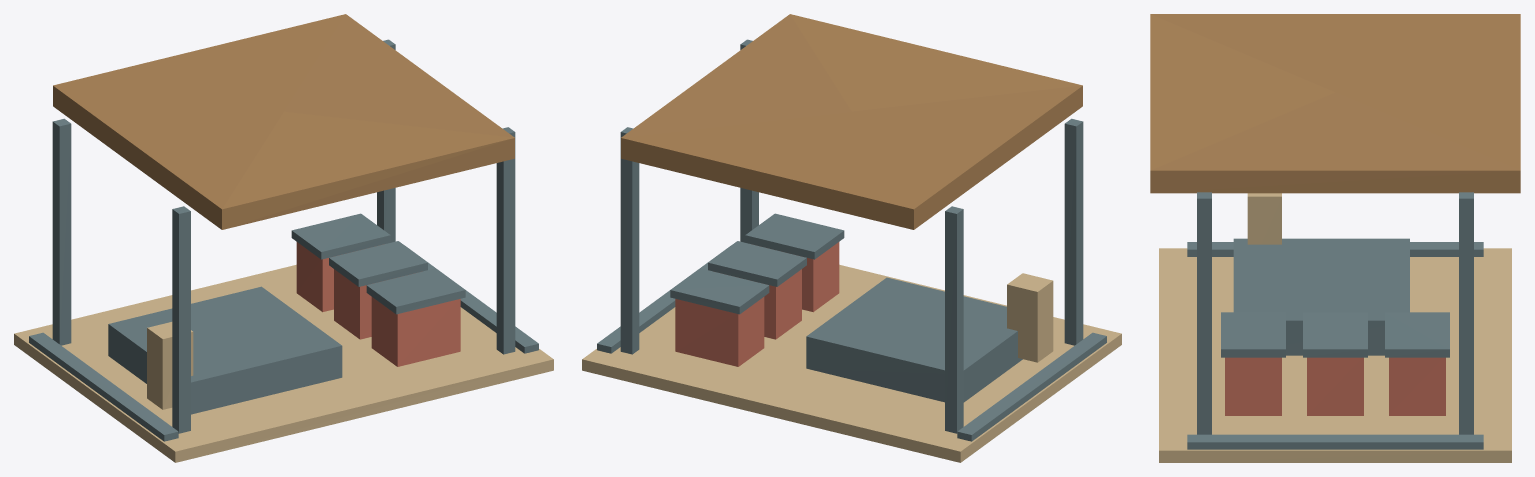
File: Produce-Collection-Point.glb
3 views of the same model, side by side, from view 1: azimuth 30°, elevation 25°; view 2: azimuth 150°, elevation 25°; view 3: azimuth 270°, elevation 25° (orthographic). The views are drawn at different scales.
Visible parts, largest first — view 1: produce-collection-point-static-collection-muted-teal, produce-collection-point-static-collection-warm-cream, produce-collection-point-static-collection-galvanized, produce-collection-point-static-collection-dark-metal, produce-collection-point-static-collection-weathered-timber; view 2: produce-collection-point-static-collection-muted-teal, produce-collection-point-static-collection-warm-cream, produce-collection-point-static-collection-galvanized, produce-collection-point-static-collection-dark-metal, produce-collection-point-static-collection-weathered-timber; view 3: produce-collection-point-static-collection-muted-teal, produce-collection-point-static-collection-warm-cream, produce-collection-point-static-collection-galvanized, produce-collection-point-static-collection-dark-metal, produce-collection-point-static-collection-weathered-timber.
Part boxes in pixels (x1=…): produce-collection-point-static-collection-muted-teal: x1=53, y1=14, x2=514, y2=229; produce-collection-point-static-collection-warm-cream: x1=14, y1=264, x2=553, y2=462; produce-collection-point-static-collection-galvanized: x1=108, y1=213, x2=465, y2=414; produce-collection-point-static-collection-dark-metal: x1=29, y1=39, x2=538, y2=441; produce-collection-point-static-collection-weathered-timber: x1=296, y1=242, x2=460, y2=366; produce-collection-point-static-collection-muted-teal: x1=621, y1=14, x2=1082, y2=229; produce-collection-point-static-collection-warm-cream: x1=582, y1=264, x2=1121, y2=462; produce-collection-point-static-collection-galvanized: x1=670, y1=213, x2=1022, y2=402; produce-collection-point-static-collection-dark-metal: x1=597, y1=39, x2=1106, y2=441; produce-collection-point-static-collection-weathered-timber: x1=675, y1=242, x2=839, y2=366; produce-collection-point-static-collection-muted-teal: x1=1150, y1=14, x2=1520, y2=193; produce-collection-point-static-collection-warm-cream: x1=1159, y1=193, x2=1511, y2=462; produce-collection-point-static-collection-galvanized: x1=1221, y1=238, x2=1449, y2=357; produce-collection-point-static-collection-dark-metal: x1=1187, y1=192, x2=1483, y2=449; produce-collection-point-static-collection-weathered-timber: x1=1225, y1=357, x2=1445, y2=415.
Bounding box in the file's own units: 4.2 × 2.61 × 3.25.
